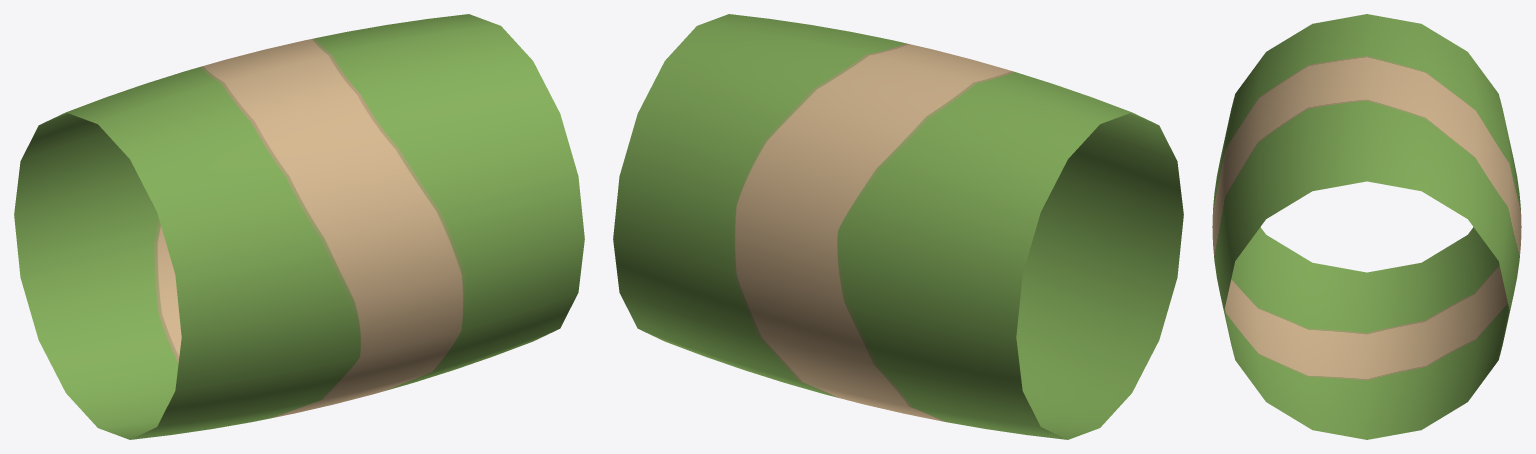
The model's file is road_menu.fbx.
The picture shows the model from 3 angles, left to right: view 1: azimuth 30°, elevation 25°; view 2: azimuth 150°, elevation 25°; view 3: azimuth 270°, elevation 25°; orthographic projection. The views are drawn at different scales.
Visible parts, largest first — view 1: road_menu; view 2: road_menu; view 3: road_menu.
Boxes of the visible parts, <box> form: road_menu: <box>14,14,584,439</box>; road_menu: <box>613,14,1183,439</box>; road_menu: <box>1212,14,1521,439</box>.
Bounding box in the file's own units: 10 × 7.8 × 7.8.
Materials: 1 (1 with a texture image).
